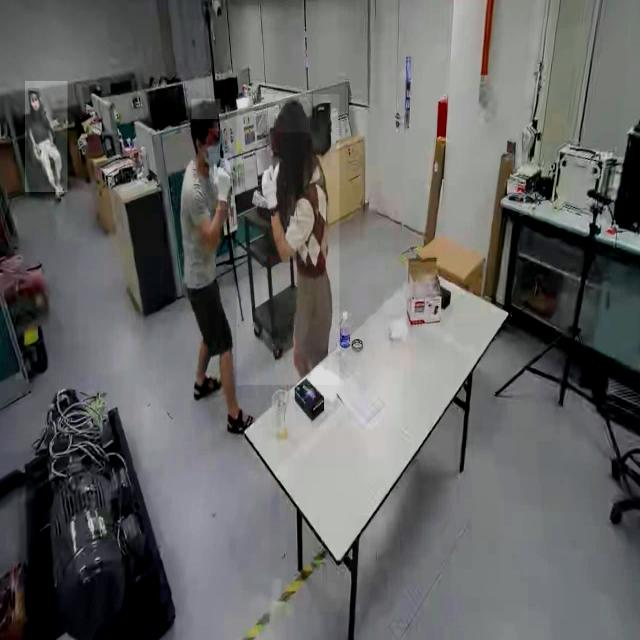face_mask: (198, 131, 226, 167), (32, 90, 42, 122)
hand_glove: (256, 159, 284, 218), (209, 154, 233, 210)
hand_noglove: (36, 144, 42, 155), (50, 138, 56, 146)
head_nohelmet: (275, 96, 310, 133), (191, 99, 221, 120), (27, 88, 39, 95)
person: (236, 94, 340, 386), (163, 104, 241, 420), (24, 81, 68, 193)
